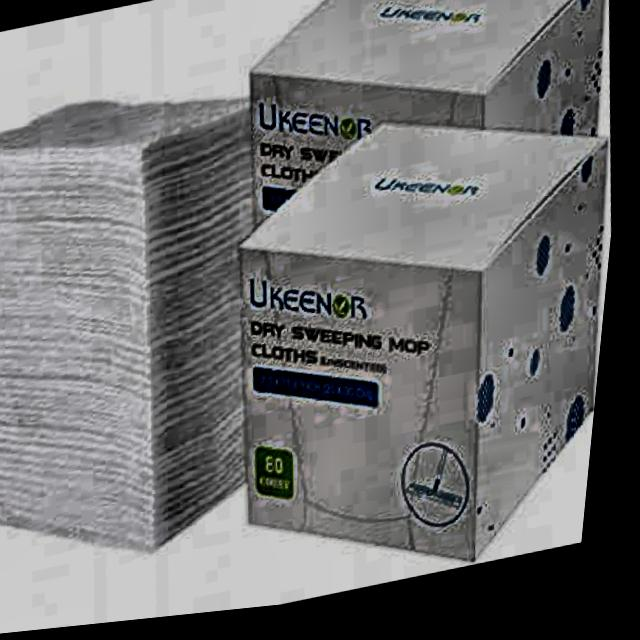Cardbox: (198, 0, 640, 593)
